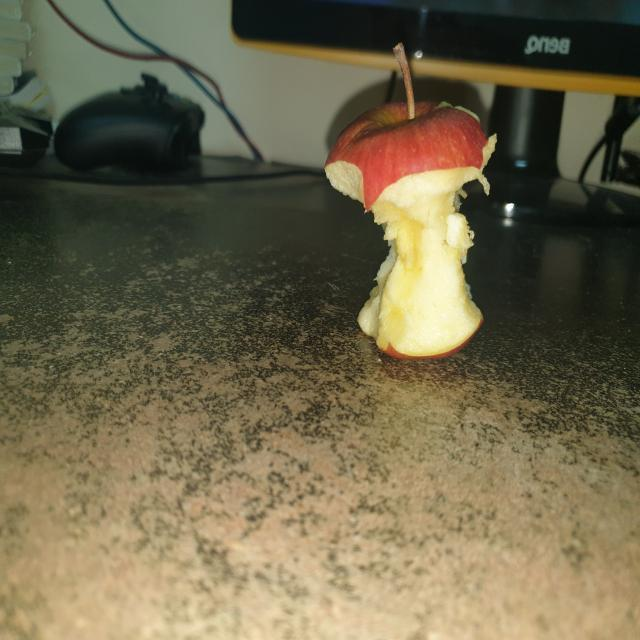apple: (318, 28, 498, 380)
